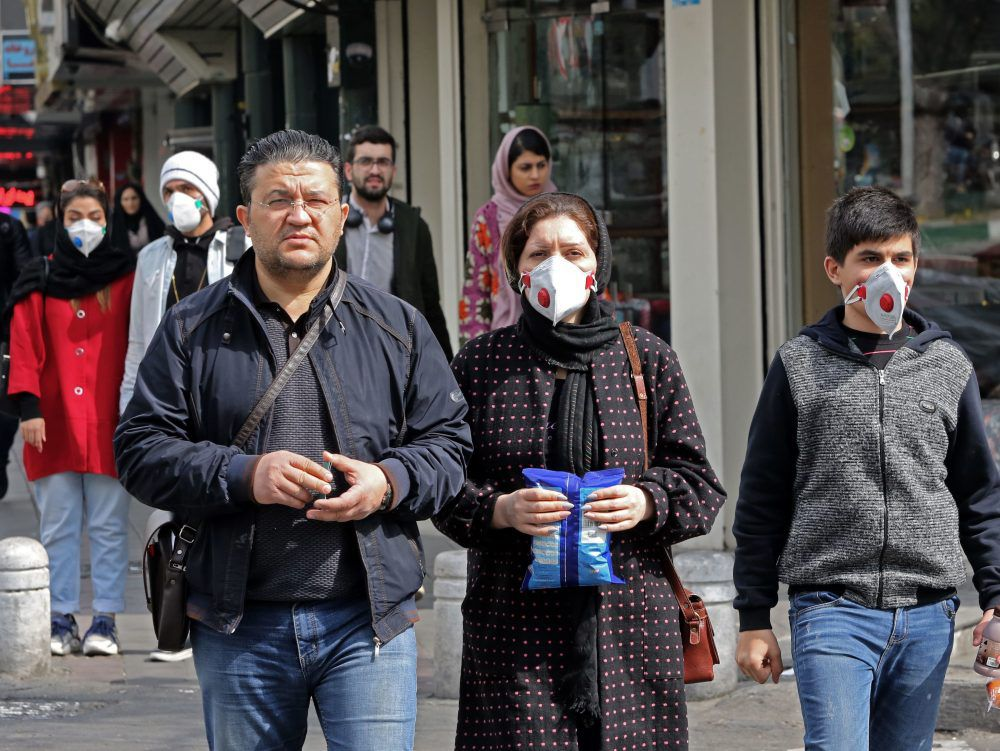with_mask: (526, 231, 597, 310), (855, 246, 915, 329), (164, 184, 207, 232), (63, 203, 105, 250)
without_mask: (258, 179, 339, 271), (357, 149, 391, 197), (518, 158, 548, 192)
